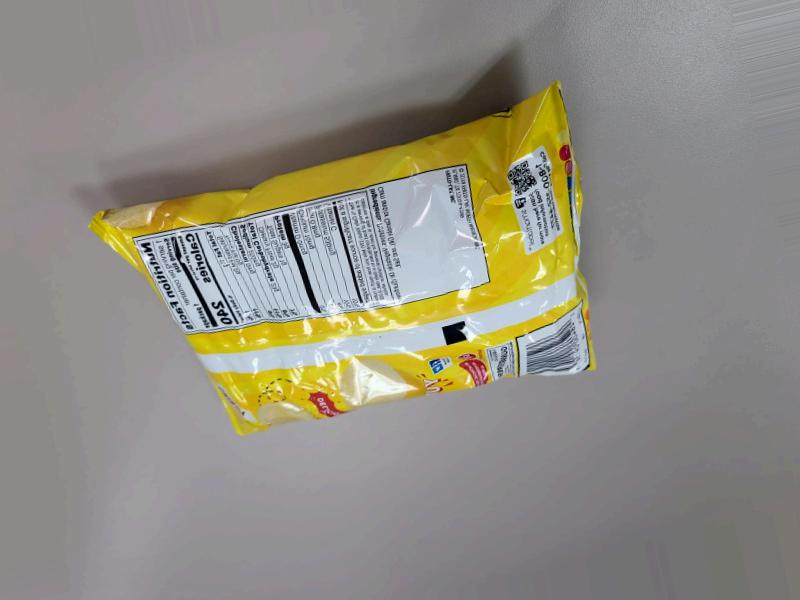lays: (161, 121, 509, 405)
